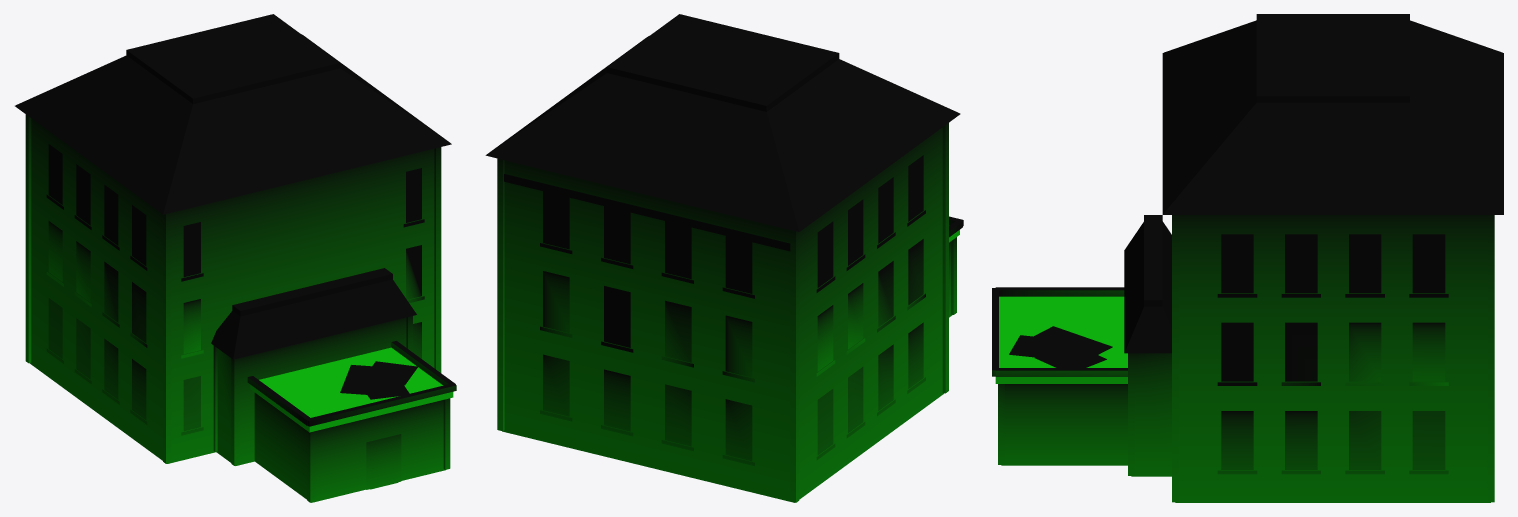
Rendered from s_main_rightwing.glb.
The picture shows the model from 3 angles, left to right: view 1: azimuth 30°, elevation 25°; view 2: azimuth 150°, elevation 25°; view 3: azimuth 270°, elevation 25°; orthographic projection. The views are drawn at different scales.
Parts seen in each view (by area): view 1: lod0; view 2: lod0; view 3: lod0.
Boxes of the visible parts, left/top/right/bottom form: lod0: left=15, top=14, right=456, bottom=502; lod0: left=485, top=14, right=963, bottom=502; lod0: left=992, top=14, right=1503, bottom=502.
Size of what is drawn, in the model's own units: 16.5 by 17.7 by 22.05.
